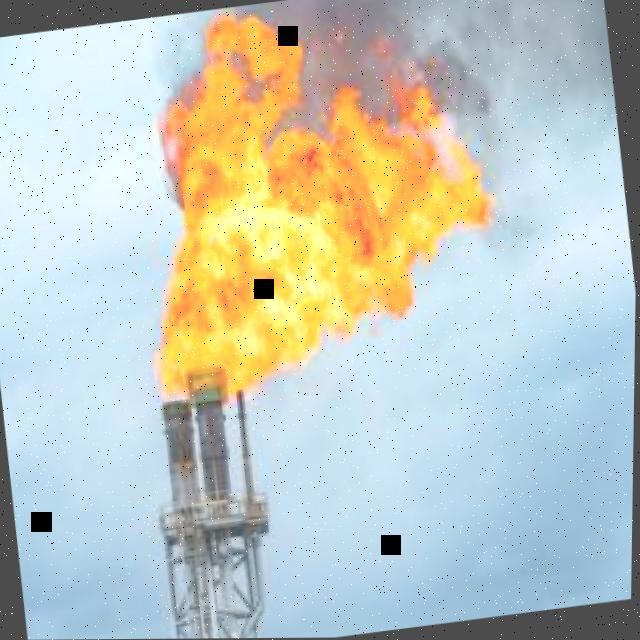fire: (153, 17, 495, 406)
smoke: (145, 0, 620, 270)
